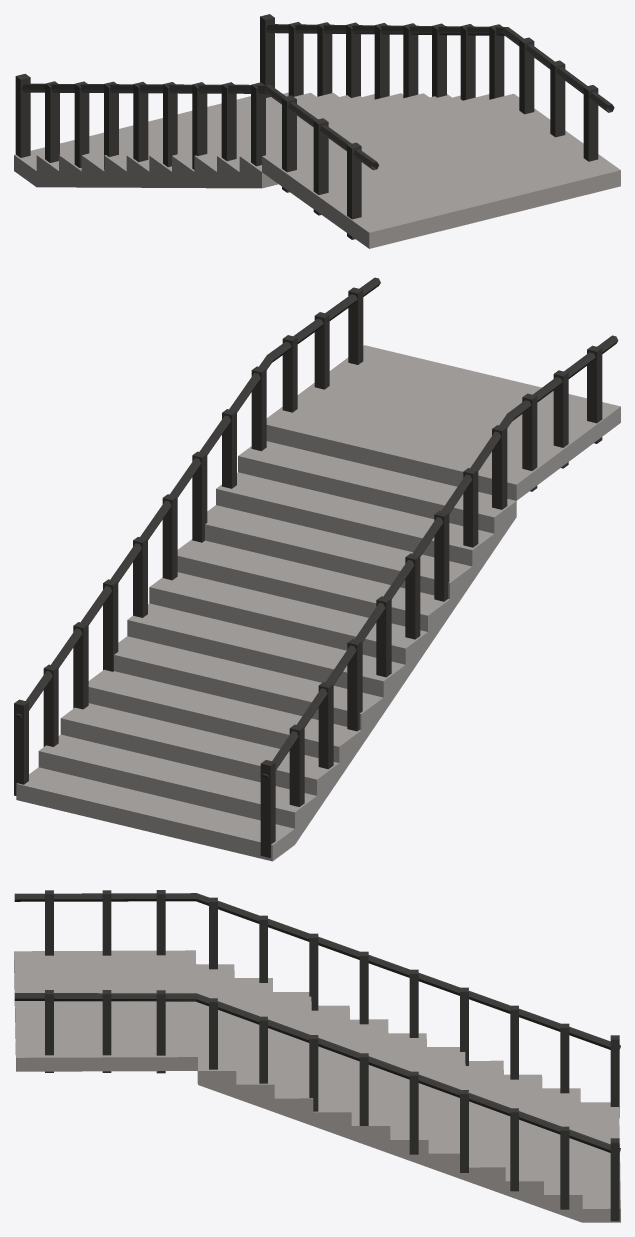
File: putong_xiaoxing03.fbx
3 views of the same model, one above another, from view 1: azimuth 30°, elevation 25°; view 2: azimuth 150°, elevation 25°; view 3: azimuth 270°, elevation 25° (orthographic). The views are drawn at different scales.
Parts seen in each view (by area): view 1: putong_xiaoxing03; view 2: putong_xiaoxing03; view 3: putong_xiaoxing03.
Boxes of the visible parts, left/top/right/bottom form: putong_xiaoxing03: left=14, top=14, right=620, bottom=248; putong_xiaoxing03: left=14, top=277, right=620, bottom=861; putong_xiaoxing03: left=14, top=890, right=620, bottom=1222.
Size of the model in its own units: 175 by 412 by 171.
